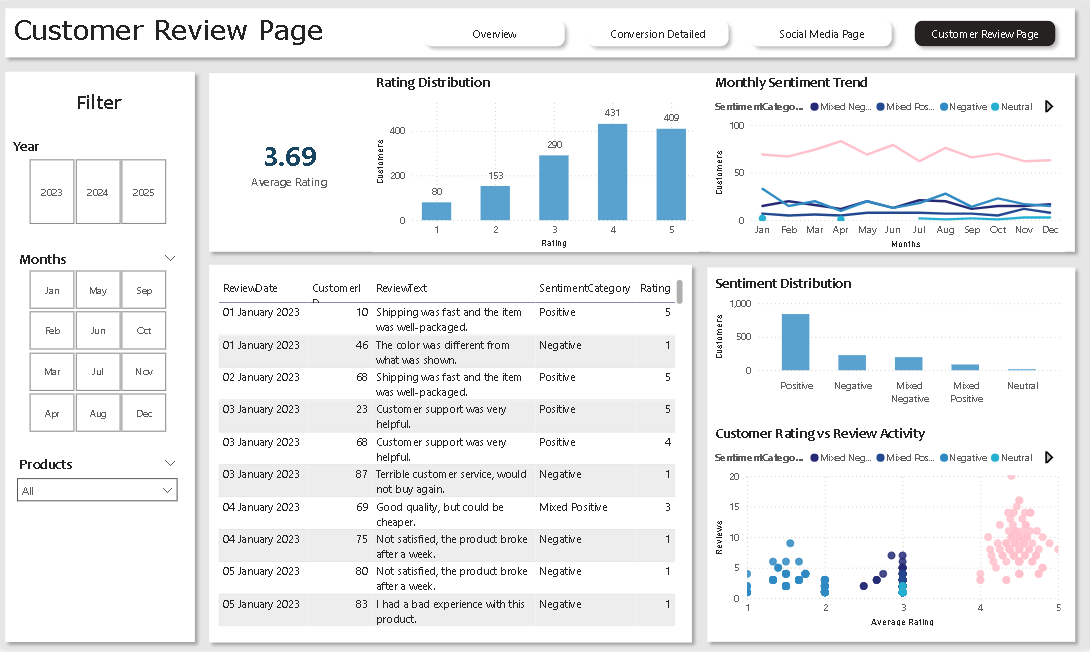

This screenshot's page, from the dashboard's own definition file:
{"tool":"powerbi","page":{"name":"Customer Review Page","canvas":[1350,800],"ordinal":3},"visuals":[{"type":"shape","box":[0,78,252,722],"z":0},{"type":"shape","box":[251.7,80,1086.7,238.3],"z":1000},{"type":"shape","box":[252,316,614,484],"z":2000},{"type":"shape","box":[866,320,472,480],"z":3000},{"type":"shape","box":[0,0,1338.3,78.3],"z":4000},{"type":"textbox","title":"Customer Review Page ","box":[13.3,15,436.7,50],"z":5000},{"type":"columnChart","title":"Rating Distribution","fields":{"Y":["CountNonNull(fact_customer_review_with _sentiment.CustomerID)"],"Category":["fact_customer_review_with _sentiment.Rating"]},"box":[461.7,90,403.3,220],"z":6000},{"type":"columnChart","title":"Sentiment Distribution","fields":{"Y":["CountNonNull(fact_customer_review_with _sentiment.CustomerID)"],"Category":["fact_customer_review_with _sentiment.SentimentCategory"]},"box":[880,338.3,436.7,168.3],"z":7000},{"type":"lineChart","title":"Monthly Sentiment Trend","fields":{"Category":["Calendar.MonthNameShort"],"Y":["CountNonNull(fact_customer_review_with _sentiment.CustomerID)"],"Series":["fact_customer_review_with _sentiment.SentimentCategory"]},"box":[880,90,436.7,220],"z":8000},{"type":"scatterChart","title":"Customer Rating vs Review Activity","fields":{"X":["_Calculation.Rating(Avg)"],"Category":["fact_customer_review_with _sentiment.CustomerID"],"Series":["fact_customer_review_with _sentiment.SentimentCategory"],"Y":["CountNonNull(fact_customer_review_with _sentiment.ReviewID)"]},"box":[880,523.3,436.7,253.3],"z":9000},{"type":"tableEx","fields":{"Values":["fact_customer_review_with _sentiment.ReviewDate","fact_customer_review_with _sentiment.CustomerID","fact_customer_review_with _sentiment.ReviewText","fact_customer_review_with _sentiment.SentimentCategory","fact_customer_review_with _sentiment.Rating"]},"box":[266,338,584,438],"z":10000},{"type":"pageNavigator","box":[516.7,15,800,50],"z":11000},{"type":"slicer","title":"Year","fields":{"Values":["Calendar.Year"]},"box":[13.3,168.3,218.3,113.3],"z":12000},{"type":"slicer","fields":{"Values":["Calendar.MonthNameShort"]},"box":[13.3,303.3,218.3,235],"z":13000},{"type":"slicer","fields":{"Values":["dim_products.ProductName"]},"box":[13.3,556.7,218.3,73.3],"z":14000},{"type":"cardVisual","fields":{"Data":["_Calculation.Rating(Avg)"]},"box":[270,138.3,180,123.3],"z":15000},{"type":"textbox","title":"Filter","box":[46.7,108.3,155,38.3],"z":15001}]}

Visuals, with their boxes in screenshot pixels (x1, y1, x2, y2), scaled from the page's 1350x800 canvas onto the 1090x652 screenshot:
shape: {"left": 0, "top": 64, "right": 203, "bottom": 651}
shape: {"left": 203, "top": 65, "right": 1081, "bottom": 259}
shape: {"left": 203, "top": 258, "right": 699, "bottom": 651}
shape: {"left": 699, "top": 261, "right": 1080, "bottom": 651}
shape: {"left": 0, "top": 0, "right": 1081, "bottom": 64}
"Customer Review Page " textbox: {"left": 11, "top": 12, "right": 363, "bottom": 53}
"Rating Distribution" columnChart: {"left": 373, "top": 73, "right": 698, "bottom": 253}
"Sentiment Distribution" columnChart: {"left": 711, "top": 276, "right": 1063, "bottom": 413}
"Monthly Sentiment Trend" lineChart: {"left": 711, "top": 73, "right": 1063, "bottom": 253}
"Customer Rating vs Review Activity" scatterChart: {"left": 711, "top": 426, "right": 1063, "bottom": 633}
tableEx - fact_customer_review_with _sentiment.ReviewDate x fact_customer_review_with _sentiment.CustomerID: {"left": 215, "top": 275, "right": 686, "bottom": 632}
pageNavigator: {"left": 417, "top": 12, "right": 1063, "bottom": 53}
"Year" slicer: {"left": 11, "top": 137, "right": 187, "bottom": 230}
slicer - Calendar.MonthNameShort: {"left": 11, "top": 247, "right": 187, "bottom": 439}
slicer - dim_products.ProductName: {"left": 11, "top": 454, "right": 187, "bottom": 513}
cardVisual - _Calculation.Rating(Avg): {"left": 218, "top": 113, "right": 363, "bottom": 213}
"Filter" textbox: {"left": 38, "top": 88, "right": 163, "bottom": 119}
